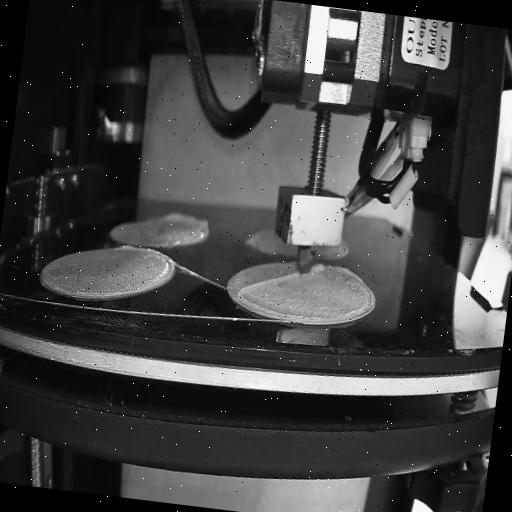over_extrusion: (236, 265, 298, 304), (161, 208, 222, 242), (330, 263, 364, 287), (116, 242, 134, 254), (340, 241, 350, 259), (312, 262, 323, 273)
